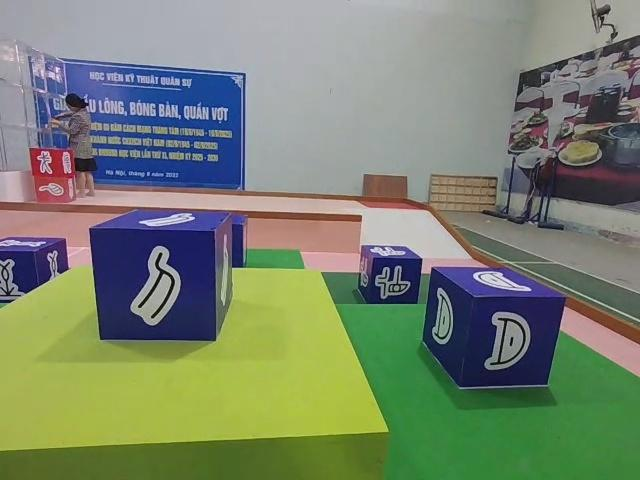R2 Real Blue: (89, 210, 232, 343), (421, 265, 562, 391), (0, 238, 68, 305), (357, 246, 422, 306)
